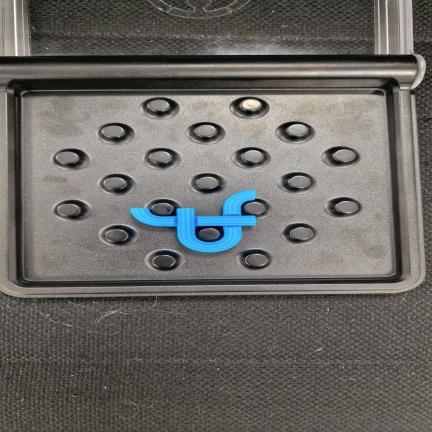B_SkyBlue: (131, 190, 256, 252)
board: (0, 56, 424, 297)
hinge: (0, 53, 429, 91)
pin: (103, 176, 128, 191), (289, 226, 314, 241), (55, 151, 80, 165), (56, 203, 81, 217), (334, 200, 359, 214), (104, 229, 129, 243), (147, 99, 171, 113), (194, 124, 218, 138), (101, 125, 125, 139), (332, 149, 356, 163), (287, 175, 311, 189), (150, 202, 174, 216), (152, 254, 176, 268), (245, 253, 269, 267), (239, 98, 262, 112), (241, 150, 264, 164), (196, 176, 219, 190), (243, 201, 266, 215), (198, 228, 222, 241), (286, 124, 309, 137), (149, 151, 172, 164)
